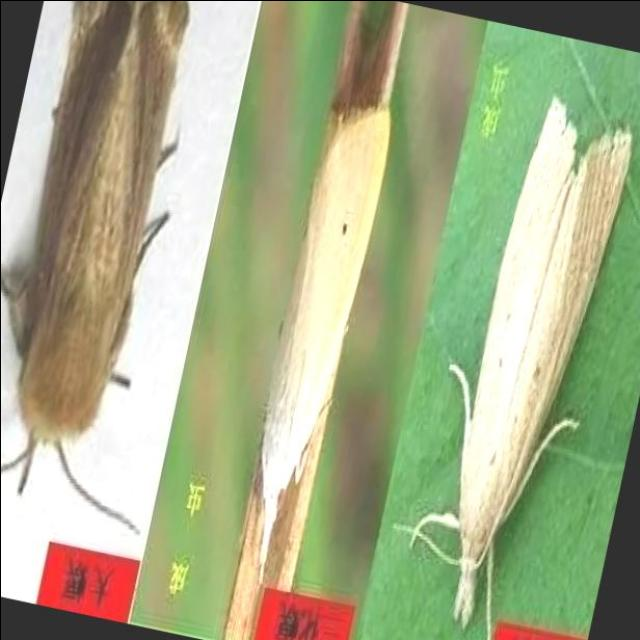stem borer: (411, 99, 631, 640), (0, 0, 189, 531), (259, 0, 401, 561)
